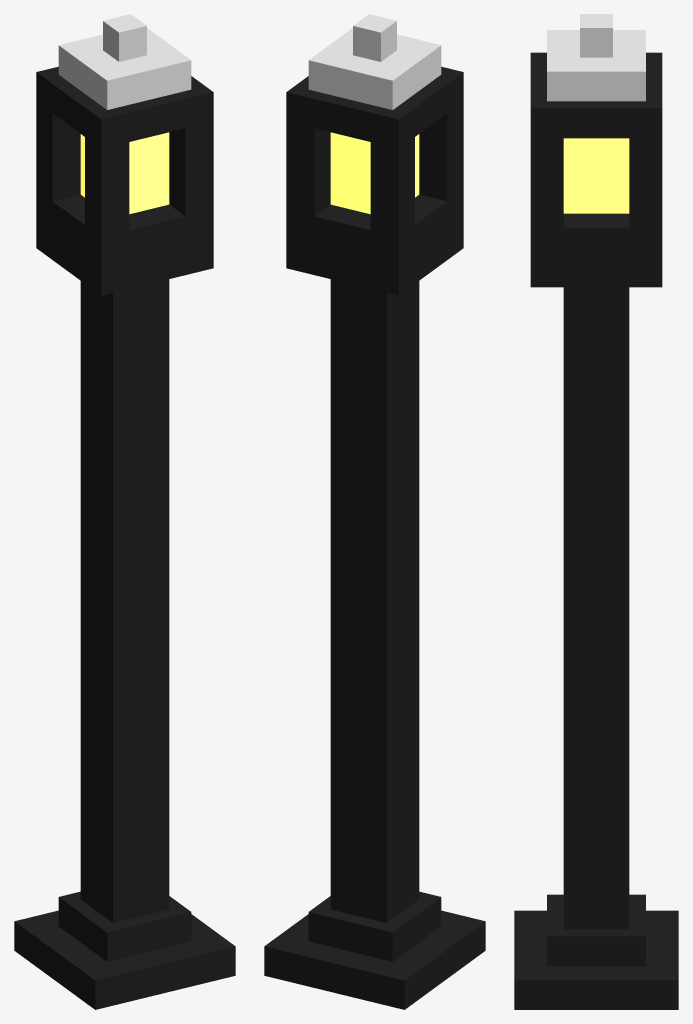
Rendered from voxel_street_lamp.glb.
3 renders of one model, left to right at view 1: azimuth 30°, elevation 25°; view 2: azimuth 150°, elevation 25°; view 3: azimuth 270°, elevation 25°, orthographic.
Parts seen in each view (by area): view 1: pole, base_tier1, head_ring_top, snow_base, head_ring_bottom, base_tier2, head_connector, head_post_3, head_post_1, head_post_4, bulb, snow_peak; view 2: pole, base_tier1, head_ring_top, snow_base, head_ring_bottom, base_tier2, head_connector, head_post_4, head_post_2, head_post_3, bulb, snow_peak; view 3: pole, base_tier1, head_ring_top, snow_base, bulb, head_ring_bottom, base_tier2, head_connector, head_post_1, head_post_2, snow_peak.
Boxes of the visible parts, bbox=[...] form: pole: bbox=[80, 279, 169, 922]; base_tier1: bbox=[14, 910, 235, 1009]; head_ring_top: bbox=[36, 66, 213, 148]; snow_base: bbox=[58, 28, 191, 109]; head_ring_bottom: bbox=[36, 189, 213, 266]; base_tier2: bbox=[58, 891, 191, 961]; head_connector: bbox=[36, 219, 213, 295]; head_post_3: bbox=[85, 137, 129, 236]; head_post_1: bbox=[169, 121, 213, 216]; head_post_4: bbox=[36, 101, 80, 201]; bulb: bbox=[80, 132, 169, 214]; snow_peak: bbox=[103, 14, 146, 61]; pole: bbox=[330, 279, 419, 922]; base_tier1: bbox=[264, 910, 485, 1009]; head_ring_top: bbox=[286, 66, 463, 148]; snow_base: bbox=[308, 28, 441, 109]; head_ring_bottom: bbox=[286, 189, 463, 266]; base_tier2: bbox=[308, 891, 441, 961]; head_connector: bbox=[286, 219, 463, 295]; head_post_4: bbox=[370, 137, 414, 236]; head_post_2: bbox=[286, 121, 330, 216]; head_post_3: bbox=[419, 101, 463, 201]; bulb: bbox=[330, 132, 419, 214]; snow_peak: bbox=[353, 14, 396, 61]; pole: bbox=[563, 287, 629, 929]; base_tier1: bbox=[514, 910, 678, 1009]; head_ring_top: bbox=[530, 52, 662, 138]; snow_base: bbox=[547, 30, 645, 101]; bulb: bbox=[563, 138, 629, 213]; head_ring_bottom: bbox=[530, 213, 662, 257]; base_tier2: bbox=[547, 894, 645, 966]; head_connector: bbox=[530, 257, 662, 287]; head_post_1: bbox=[530, 138, 563, 227]; head_post_2: bbox=[629, 138, 662, 227]; snow_peak: bbox=[580, 14, 612, 57].
Bounding box in the file's own units: 0.6 × 3.84 × 0.6.
